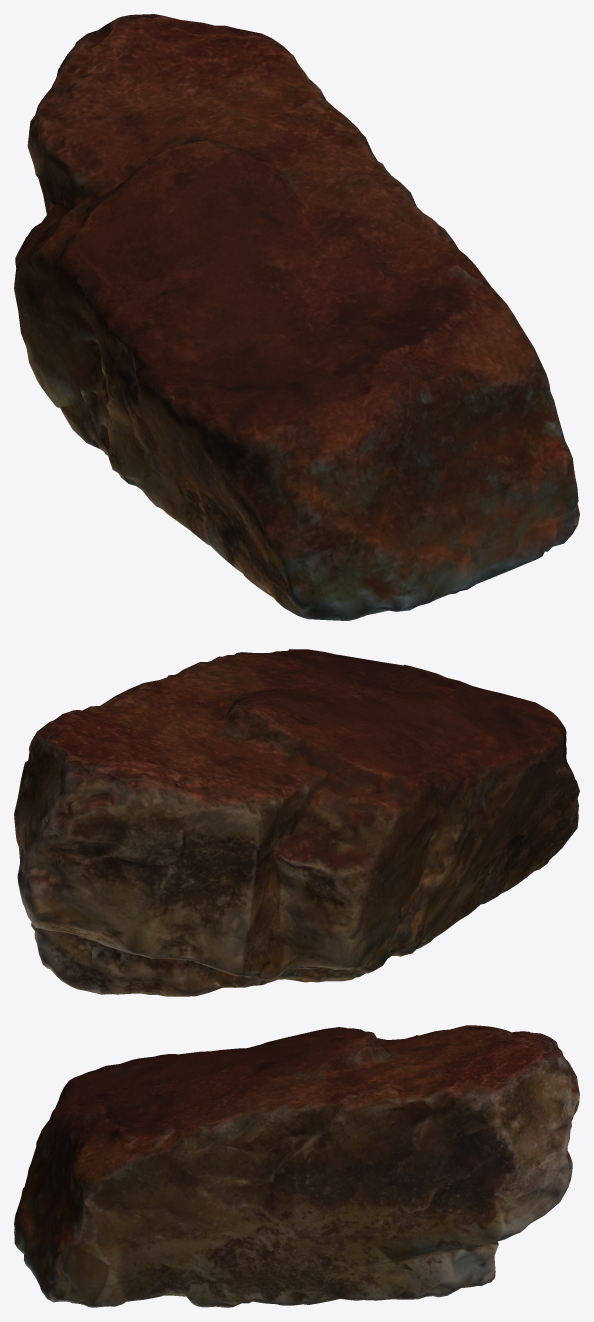
The model's file is ph-rock-07.glb.
3 views of the same model, one above another, from view 1: azimuth 30°, elevation 25°; view 2: azimuth 150°, elevation 25°; view 3: azimuth 270°, elevation 25° (orthographic). The views are drawn at different scales.
Parts seen in each view (by area): view 1: rock_07; view 2: rock_07; view 3: rock_07.
Boxes of the visible parts, box(x1,y1,x2,y2) form: rock_07: box(14, 14, 579, 620); rock_07: box(14, 649, 579, 996); rock_07: box(14, 1025, 579, 1307).
Size of the model in its own units: 0.1689 by 0.1437 by 0.3202.
Materials: 1 (1 with a texture image).
